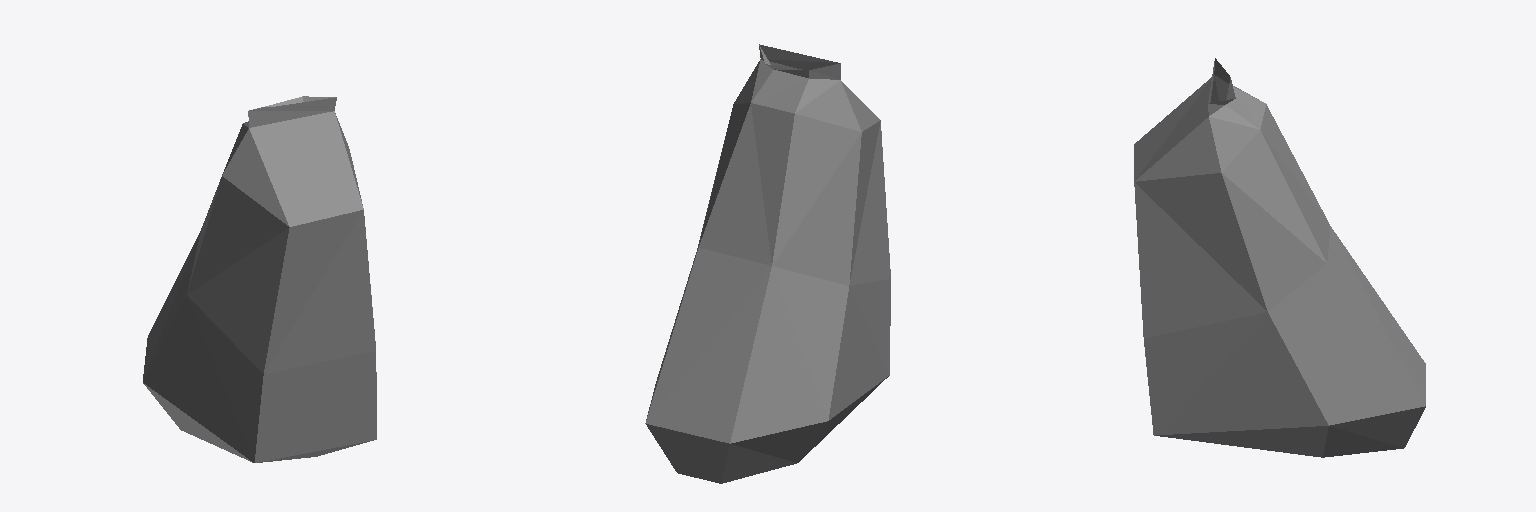
The model's file is pataDel1_abajo_caballoTS.obj.
3 views of the same model, side by side, from view 1: azimuth 30°, elevation 25°; view 2: azimuth 150°, elevation 25°; view 3: azimuth 270°, elevation 25° (orthographic).
Visible parts, largest first — view 1: patadel1_abajo; view 2: patadel1_abajo; view 3: patadel1_abajo.
Part boxes in pixels (x1,y1,x2,y2): patadel1_abajo: (143, 96, 376, 462); patadel1_abajo: (645, 44, 890, 483); patadel1_abajo: (1134, 58, 1425, 457).
Bounding box in the file's own units: 1.32 × 2.59 × 1.92.